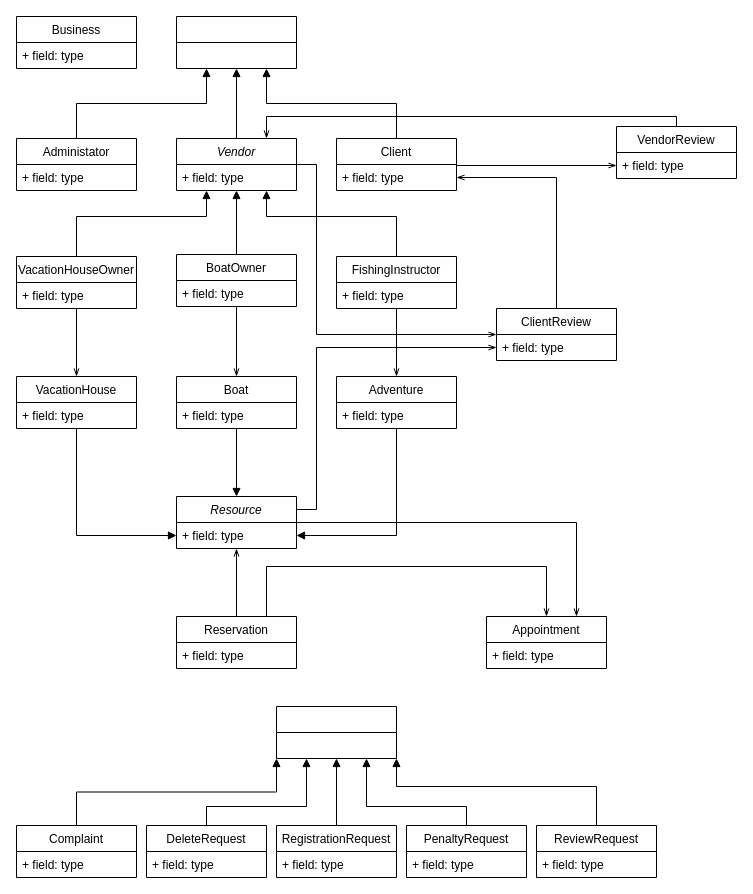
Some shapes in this 753 by 894 pixel diagram are drawn without their labels. Each missing label, with the centre of its shape:
Request: the point at 336,732
User: the point at 236,42
